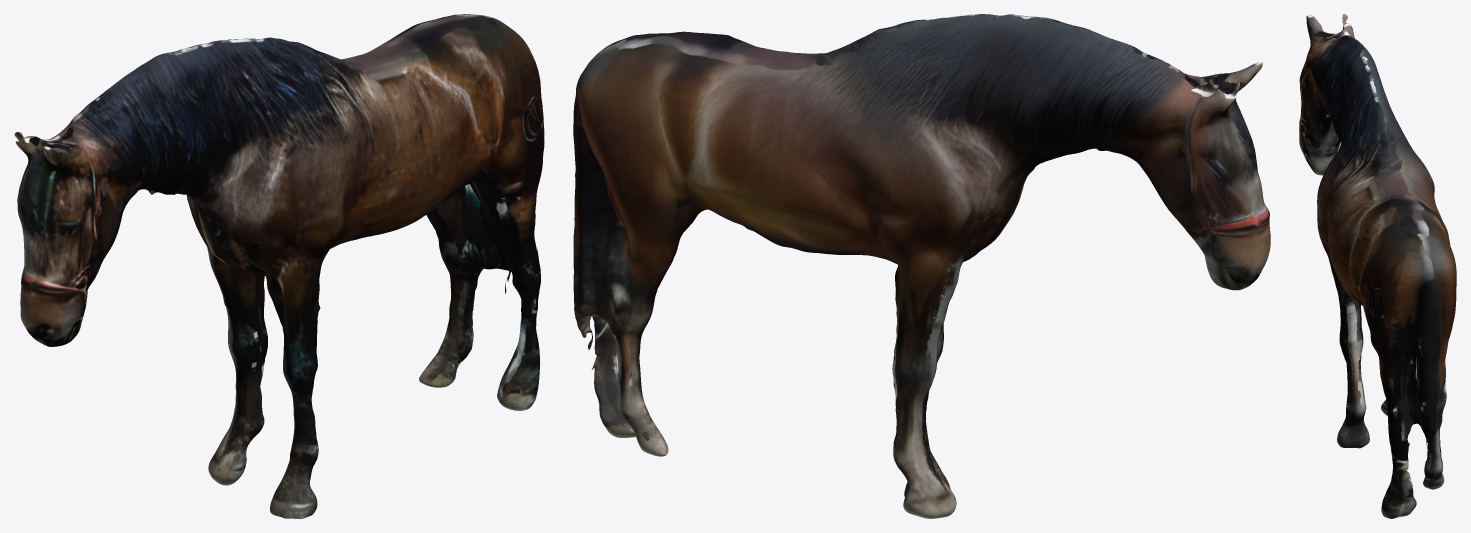
File: joven.glb
3 renders of one model, left to right at view 1: azimuth 30°, elevation 25°; view 2: azimuth 150°, elevation 25°; view 3: azimuth 270°, elevation 25°, orthographic. The views are drawn at different scales.
Visible parts, largest first — view 1: mesh; view 2: mesh; view 3: mesh.
Boxes of the visible parts, x1,y1,x2,y2 form: mesh: (14, 14, 544, 518); mesh: (573, 14, 1270, 518); mesh: (1299, 14, 1456, 518).
Size of the model in its own units: 1.63 by 1.32 by 0.5385.
Materials: 1 (1 with a texture image).
